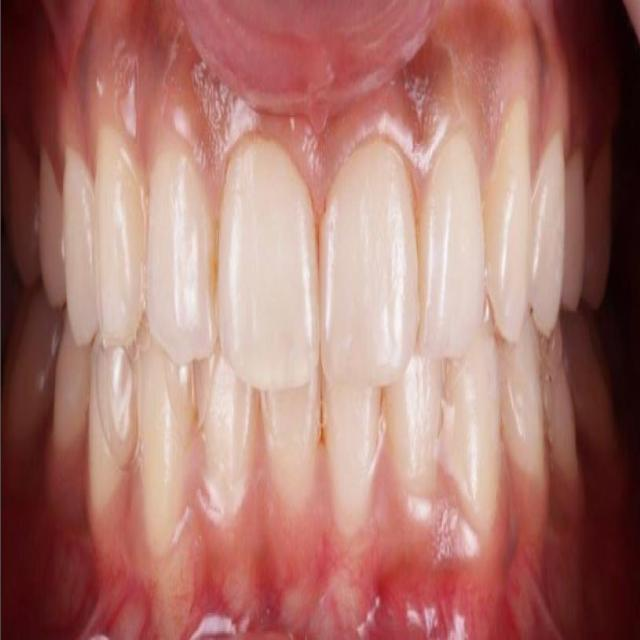1st Molar: (5, 298, 64, 455), (565, 322, 618, 448), (2, 131, 38, 284), (587, 144, 613, 307)
1st Premolar: (88, 343, 137, 516), (529, 133, 565, 336), (503, 327, 547, 482), (63, 149, 97, 343)
2nd Premolar: (543, 333, 579, 482), (53, 327, 90, 458), (38, 153, 65, 307), (564, 156, 587, 313)
Canine: (137, 329, 197, 559), (446, 331, 502, 548), (95, 128, 147, 351), (484, 101, 531, 343)
Central Incisor: (218, 135, 317, 390), (321, 140, 420, 388), (325, 387, 384, 541), (264, 381, 320, 514)
Lateral Incisor: (148, 153, 217, 365), (421, 135, 484, 358), (196, 358, 256, 527), (386, 361, 441, 502)
